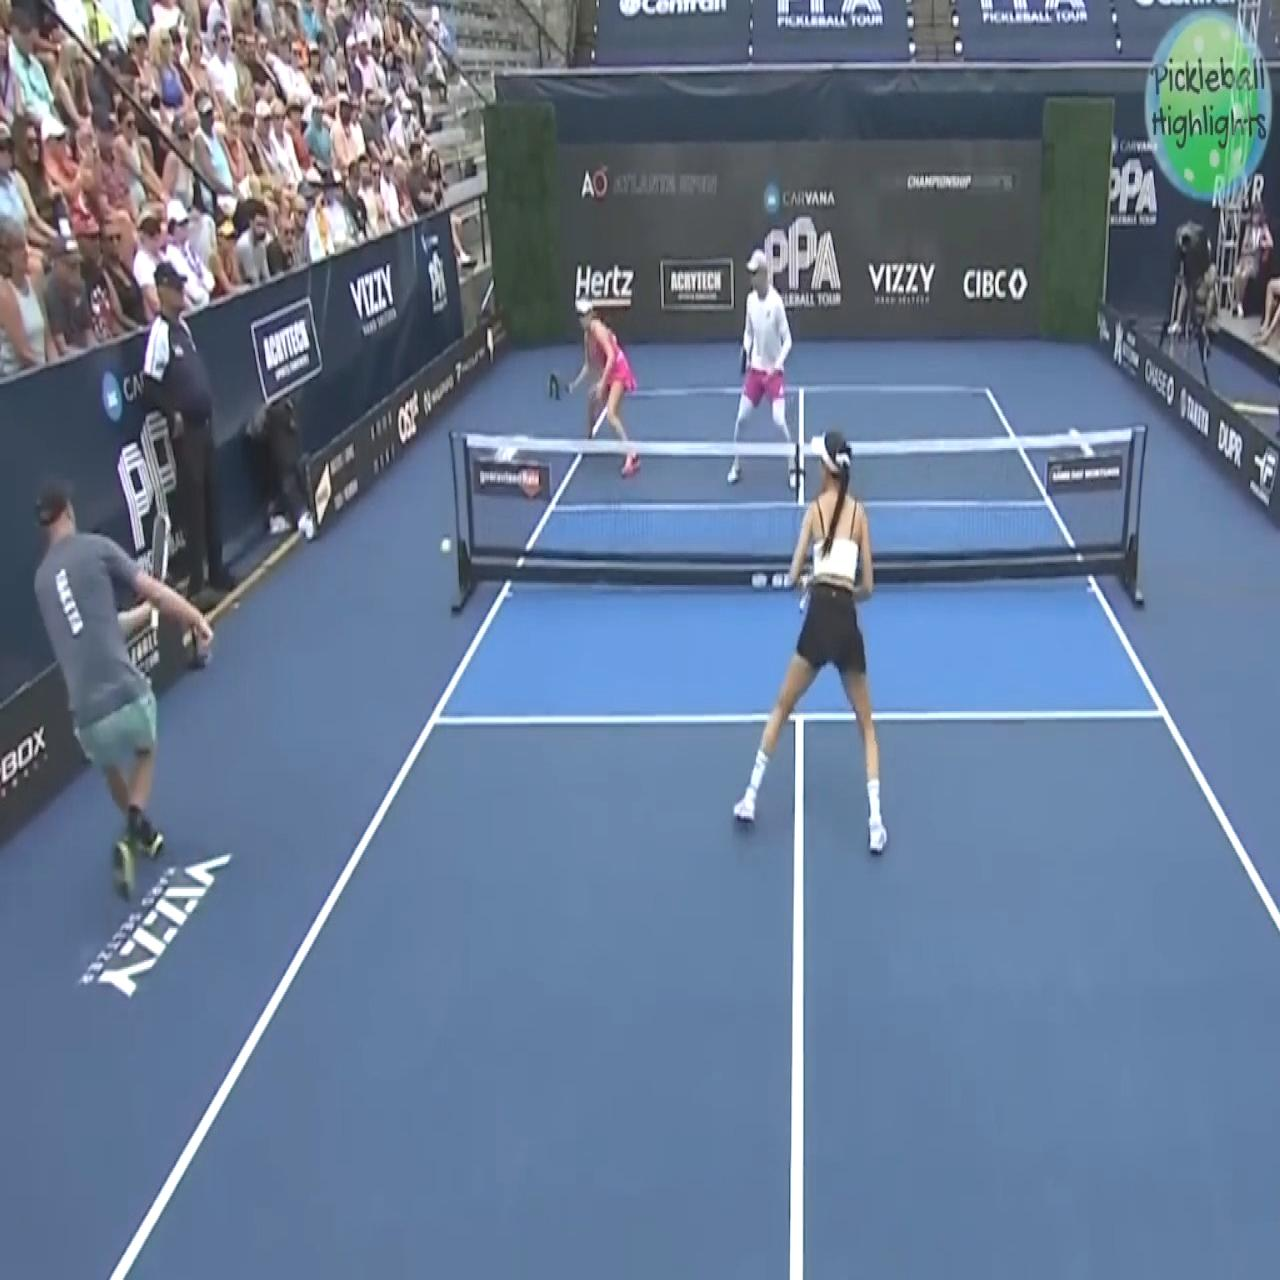Pickleball: (438, 532, 452, 560)
